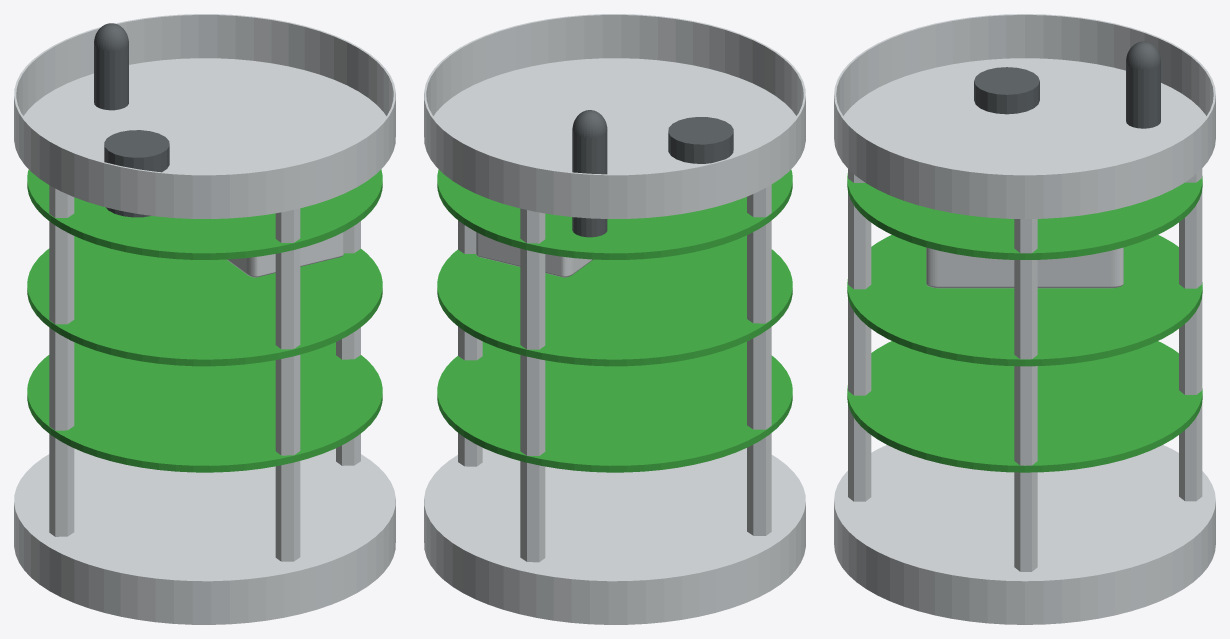
Rendered from cansat.obj.
3 renders of one model, left to right at view 1: azimuth 30°, elevation 25°; view 2: azimuth 150°, elevation 25°; view 3: azimuth 270°, elevation 25°, orthographic.
Visible parts, largest first — view 1: group_0_14541540, group_0_4634441, group_0_6383466; view 2: group_0_14541540, group_0_4634441, group_0_6383466; view 3: group_0_14541540, group_0_4634441, group_0_6383466.
Part boxes in pixels (left/top/right/bottom): group_0_14541540: left=14, top=14, right=395, bottom=624; group_0_4634441: left=27, top=169, right=382, bottom=472; group_0_6383466: left=94, top=23, right=169, bottom=217; group_0_14541540: left=424, top=14, right=805, bottom=624; group_0_4634441: left=437, top=169, right=792, bottom=472; group_0_6383466: left=572, top=110, right=733, bottom=237; group_0_14541540: left=834, top=14, right=1215, bottom=624; group_0_4634441: left=847, top=173, right=1202, bottom=472; group_0_6383466: left=974, top=41, right=1160, bottom=128.
Size of the model in its own units: 87 by 122 by 87.
